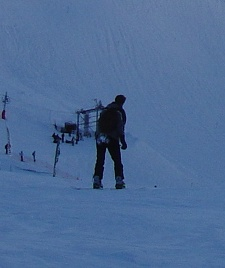person: (90, 90, 128, 190)
